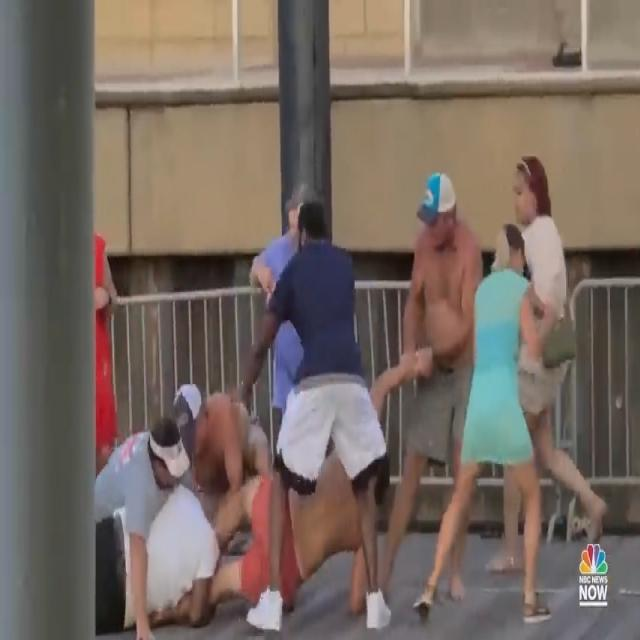fight: (93, 153, 480, 640)
non-fight: (422, 153, 608, 624)
